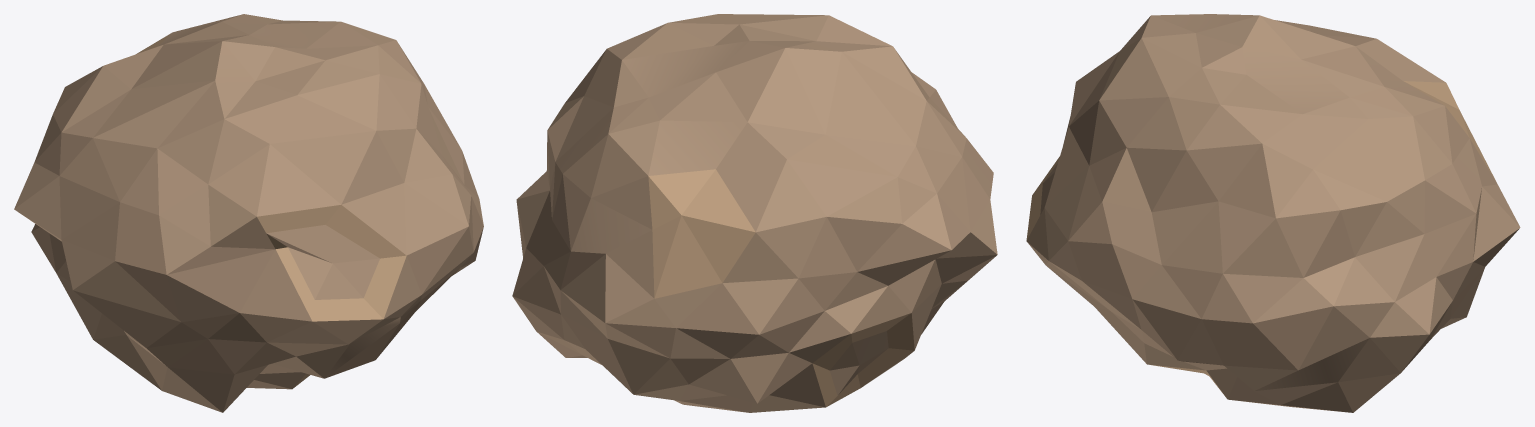
File: Phobos.fbx
3 views of the same model, side by side, from view 1: azimuth 30°, elevation 25°; view 2: azimuth 150°, elevation 25°; view 3: azimuth 270°, elevation 25° (orthographic).
Parts seen in each view (by area): view 1: Phobos; view 2: Phobos; view 3: Phobos.
Boxes of the visible parts, x1=… form: Phobos: x1=14, y1=14, x2=483, y2=412; Phobos: x1=512, y1=14, x2=997, y2=412; Phobos: x1=1026, y1=14, x2=1520, y2=412.
Bounding box in the file's own units: 81.66 × 64.34 × 82.89.
